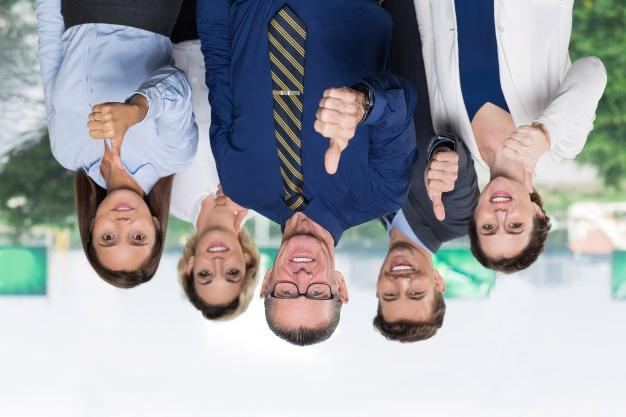thumbsdown: (313, 88, 358, 175), (87, 103, 124, 170), (427, 150, 459, 222), (501, 125, 534, 194), (214, 183, 241, 231)
